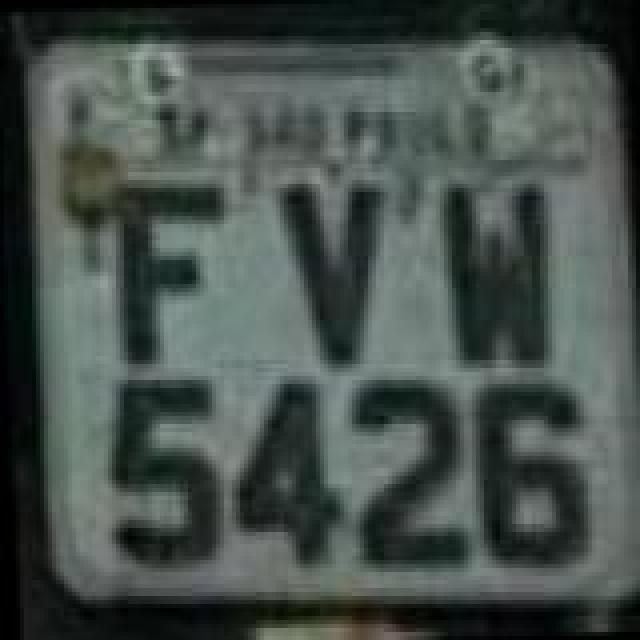2: (342, 376, 466, 572)
4: (226, 376, 350, 572)
5: (94, 368, 226, 580)
6: (470, 374, 594, 570)
F: (108, 176, 232, 372)
V: (272, 174, 396, 370)
W: (436, 172, 560, 376)
